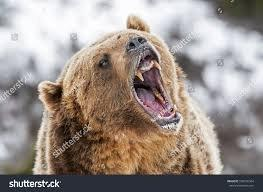bear: (32, 13, 224, 175)
